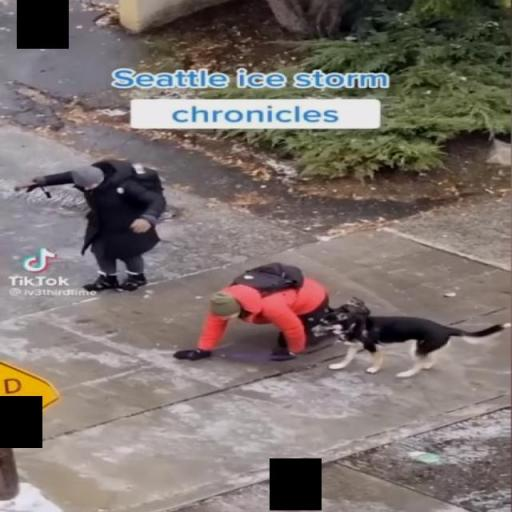Fall: (171, 261, 341, 366)
